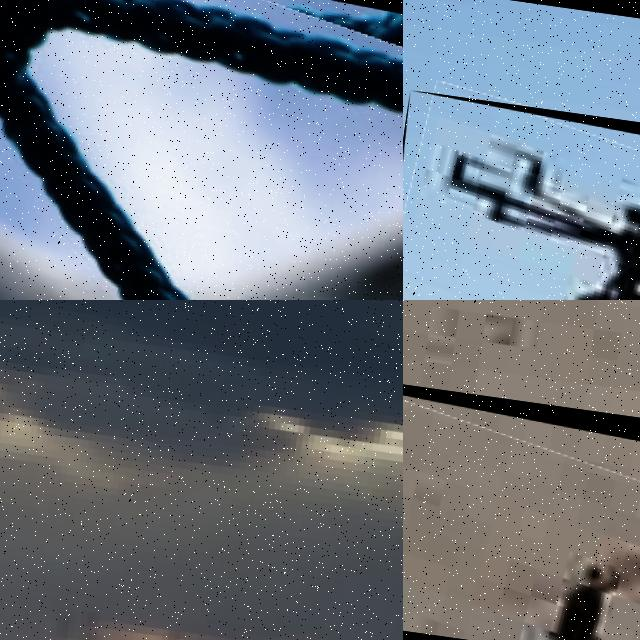drone: (0, 0, 403, 300), (403, 355, 640, 640), (403, 90, 640, 300)
